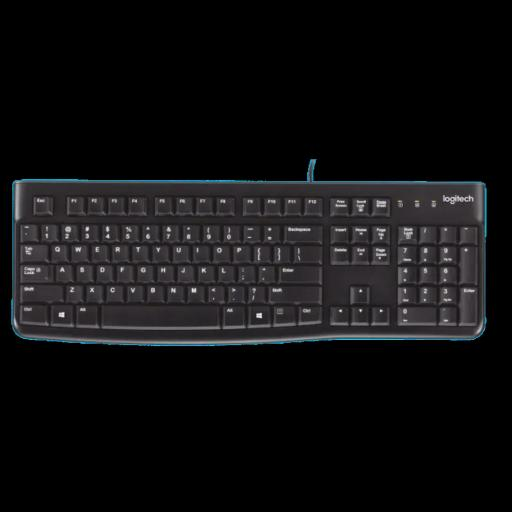KEYBOARD-2: (12, 181, 485, 344)
